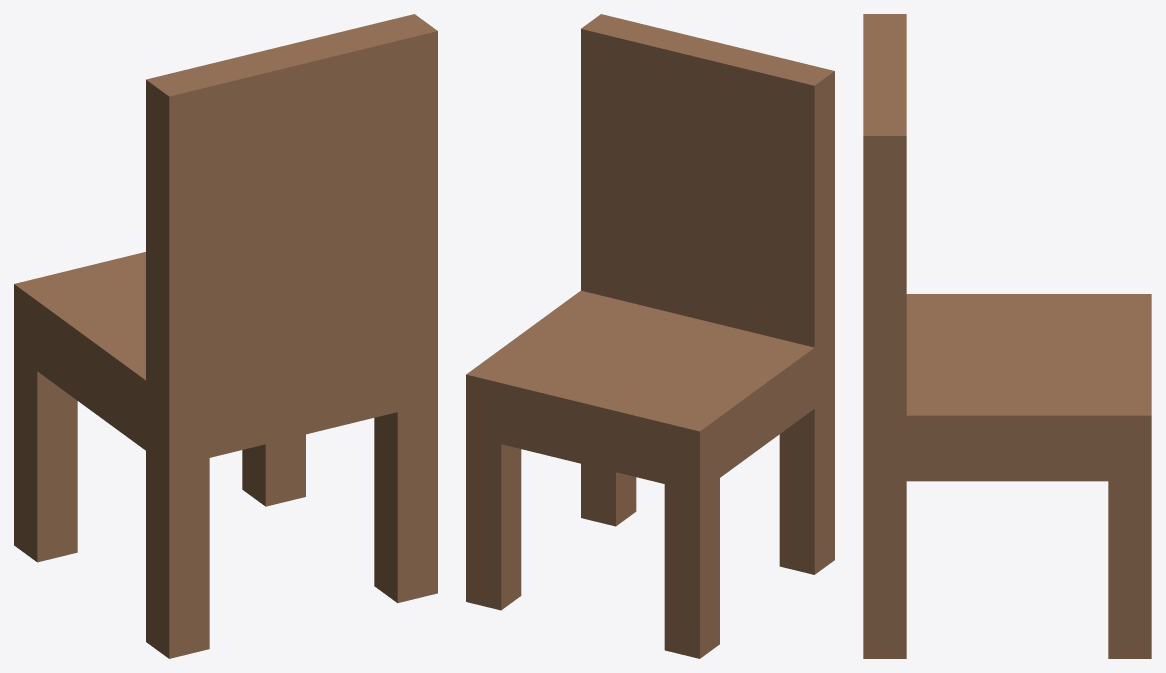
File: wood_chair1.fbx
The picture shows the model from 3 angles, left to right: view 1: azimuth 30°, elevation 25°; view 2: azimuth 150°, elevation 25°; view 3: azimuth 270°, elevation 25°; orthographic projection. The views are drawn at different scales.
Parts seen in each view (by area): view 1: Cube; view 2: Cube; view 3: Cube.
Part boxes in pixels (<box>): Cube: <box>14,14,437,658</box>; Cube: <box>466,14,834,658</box>; Cube: <box>863,14,1151,658</box>.
Bounding box in the file's own units: 200 × 400 × 200.
